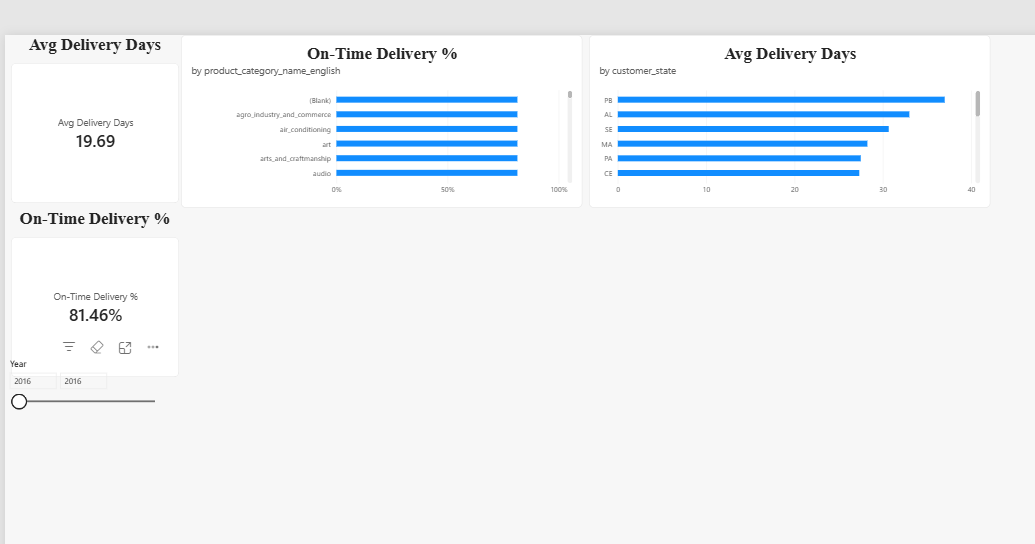

What the dashboard file says about the page in this screenshot:
{"tool":"powerbi","page":{"name":"Delivery Performance","canvas":[1920,1080],"ordinal":1},"visuals":[{"type":"cardVisual","title":"Avg Delivery Days","fields":{"Data":["orders_clean.Avg Delivery Days"]},"box":[10,0,280,280],"z":0},{"type":"cardVisual","title":"On-Time Delivery %","fields":{"Data":["orders_clean.On-Time Delivery %"]},"box":[10,290,280,280],"z":1000},{"type":"clusteredBarChart","fields":{"Category":["products_clean.product_category_name_english"],"Y":["orders_clean.On-Time Delivery %"]},"box":[293.6,0,669.4,287.7],"z":2000},{"type":"clusteredBarChart","fields":{"Category":["customers.customer_state"],"Y":["orders_clean.Avg Delivery Days"]},"box":[973,0,669,288],"z":3000},{"type":"slicer","fields":{"Values":["dim_date.Year"]},"box":[0,540.2,268,288],"z":4000}]}

Visuals, with their boxes on the page's 1920x1080 design canvas (x1, y1, x2, y2). These are canvas units, not pixel positions in the 1035x544 screenshot, which may show the page scaled, cropped or inside an application window:
"Avg Delivery Days" cardVisual: {"left": 10, "top": 0, "right": 290, "bottom": 280}
"On-Time Delivery %" cardVisual: {"left": 10, "top": 290, "right": 290, "bottom": 570}
clusteredBarChart - products_clean.product_category_name_english x orders_clean.On-Time Delivery %: {"left": 294, "top": 0, "right": 963, "bottom": 288}
clusteredBarChart - customers.customer_state x orders_clean.Avg Delivery Days: {"left": 973, "top": 0, "right": 1642, "bottom": 288}
slicer - dim_date.Year: {"left": 0, "top": 540, "right": 268, "bottom": 828}
